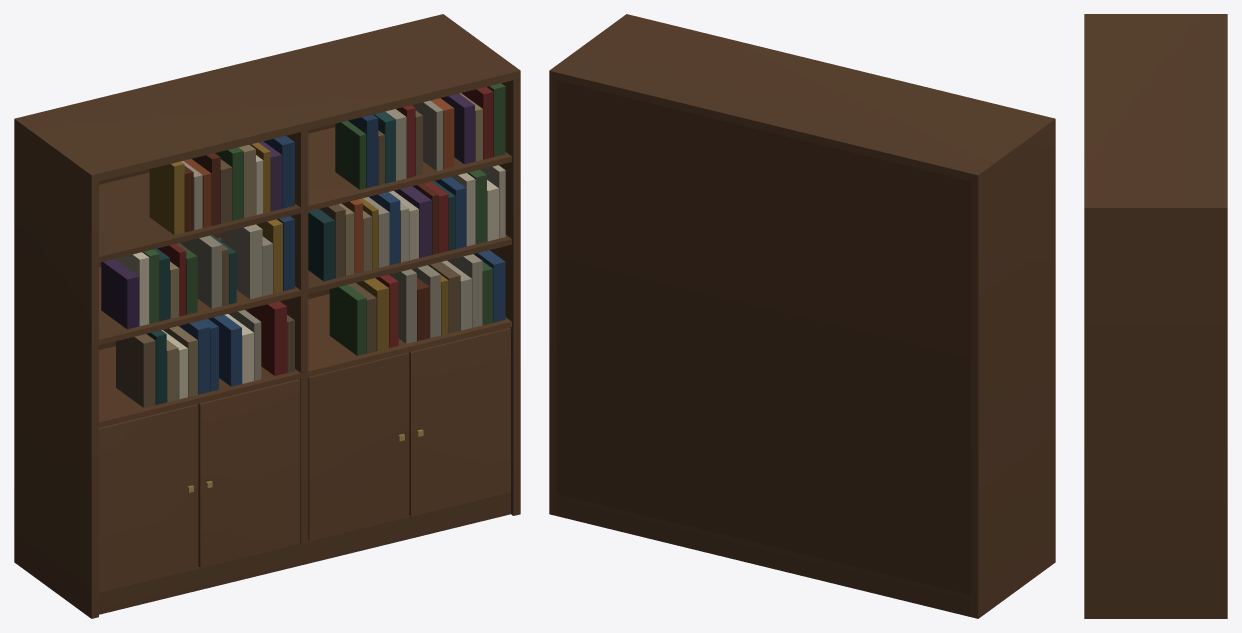
File: bookcase.wide.walnut.glb
3 views of the same model, side by side, from view 1: azimuth 30°, elevation 25°; view 2: azimuth 150°, elevation 25°; view 3: azimuth 270°, elevation 25° (orthographic). The views are drawn at different scales.
Parts seen in each view (by area): view 1: bookcase_wide_walnut; view 2: bookcase_wide_walnut; view 3: bookcase_wide_walnut.
Boxes of the visible parts, box(x1,y1,x2,y2) form: bookcase_wide_walnut: box(14, 14, 520, 618); bookcase_wide_walnut: box(549, 14, 1055, 618); bookcase_wide_walnut: box(1084, 14, 1227, 618).
Size of what is drawn, in the model's own units: 2.03 by 2 by 0.633.
